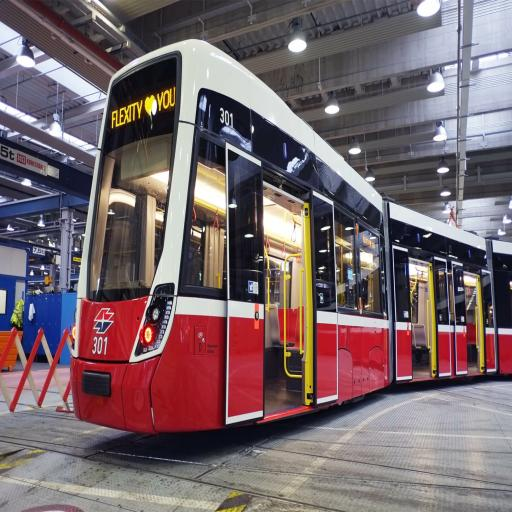Flexity: (67, 34, 512, 475)
